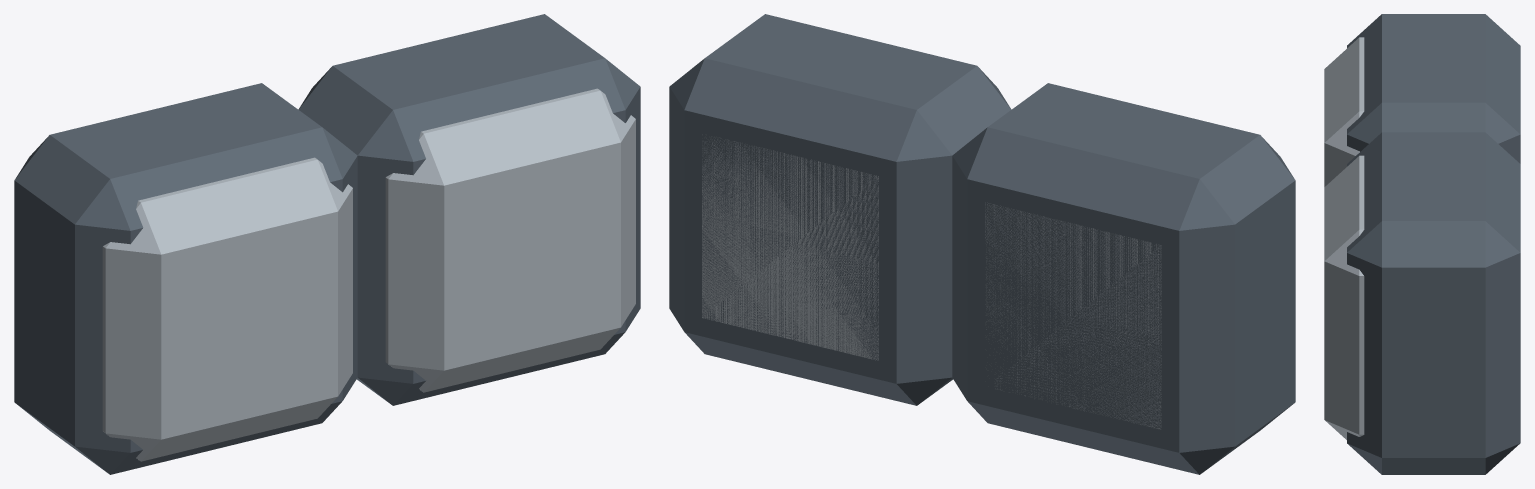
The model's file is Terrain_Block2x1.gltf.
3 renders of one model, left to right at view 1: azimuth 30°, elevation 25°; view 2: azimuth 150°, elevation 25°; view 3: azimuth 270°, elevation 25°, orthographic. The views are drawn at different scales.
Parts seen in each view (by area): view 1: Terrain_Block2x1_baked; view 2: Terrain_Block2x1_baked; view 3: Terrain_Block2x1_baked.
Part boxes in pixels (x1=…): Terrain_Block2x1_baked: x1=14, y1=14, x2=640, y2=474; Terrain_Block2x1_baked: x1=669, y1=14, x2=1295, y2=474; Terrain_Block2x1_baked: x1=1324, y1=14, x2=1520, y2=474.
Bounding box in the file's own units: 2 × 1 × 0.7.
